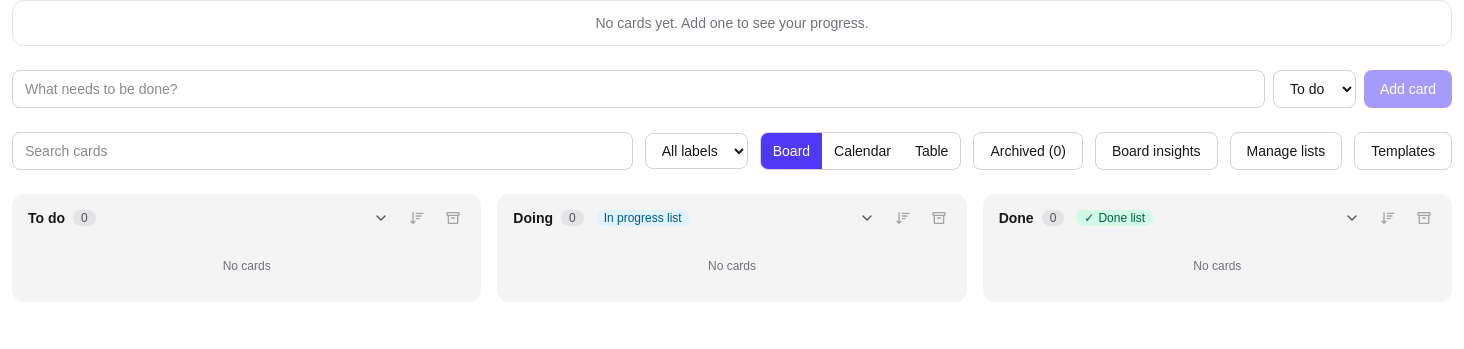
Test: <Board /> › adds a card to To do and clears the input
In the field named "New card title": (638,89) top-left (12, 70), bottom-right (1265, 108), type "Write docs"
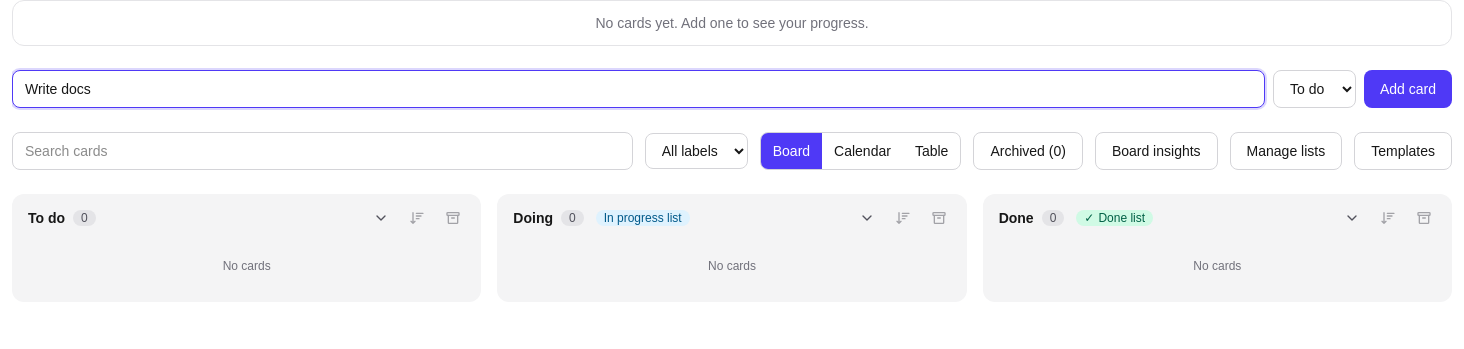
Click the button "Add card": (1408,89) top-left (1364, 70), bottom-right (1452, 108)
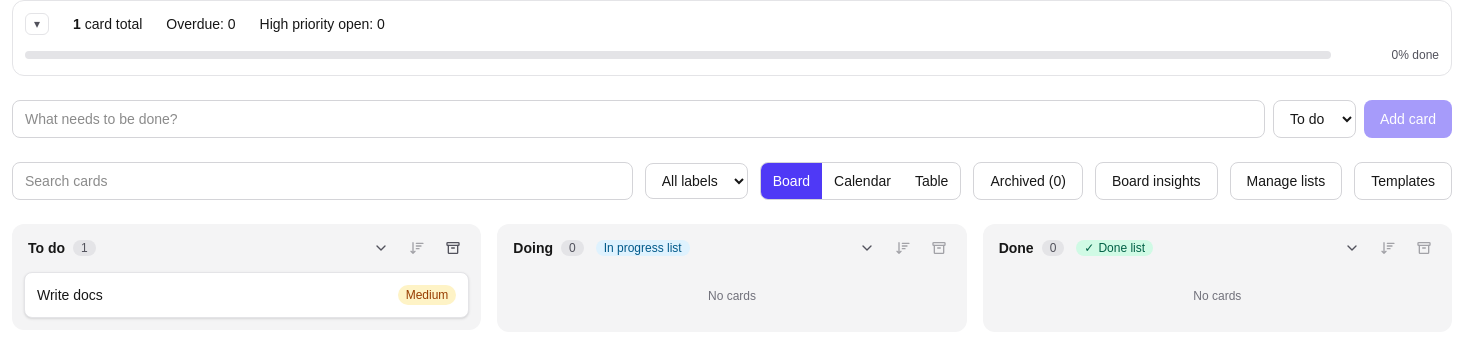
Expected: the button "Write docs" is shown, top-left (37, 285), bottom-right (103, 305)
Expected: the field named "New card title" is empty, top-left (12, 100), bottom-right (1265, 138)
